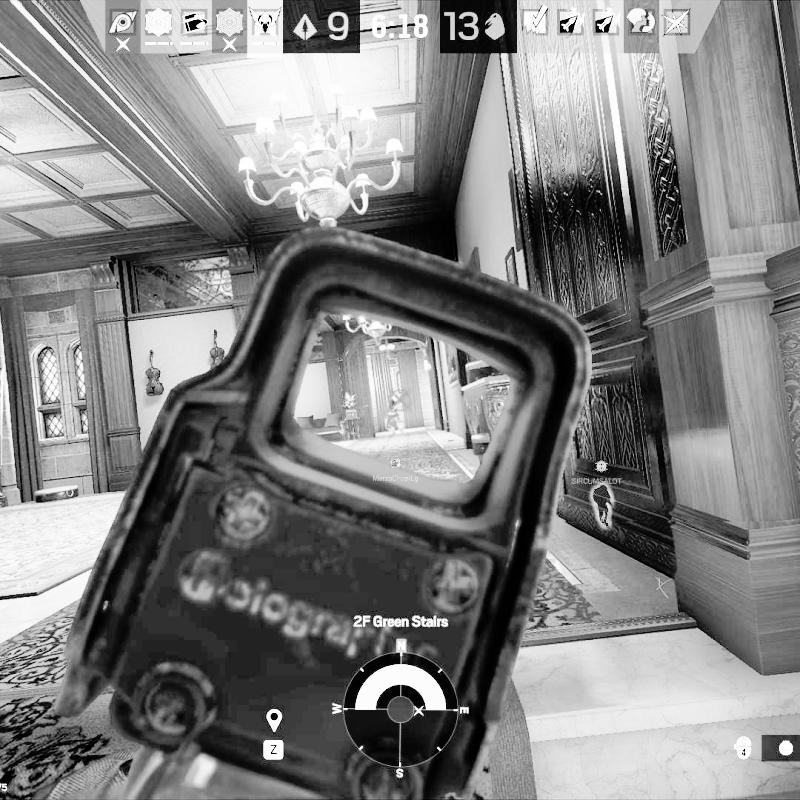Character: (384, 390, 408, 438)
Friend_label: (568, 457, 625, 488), (369, 454, 422, 487)
